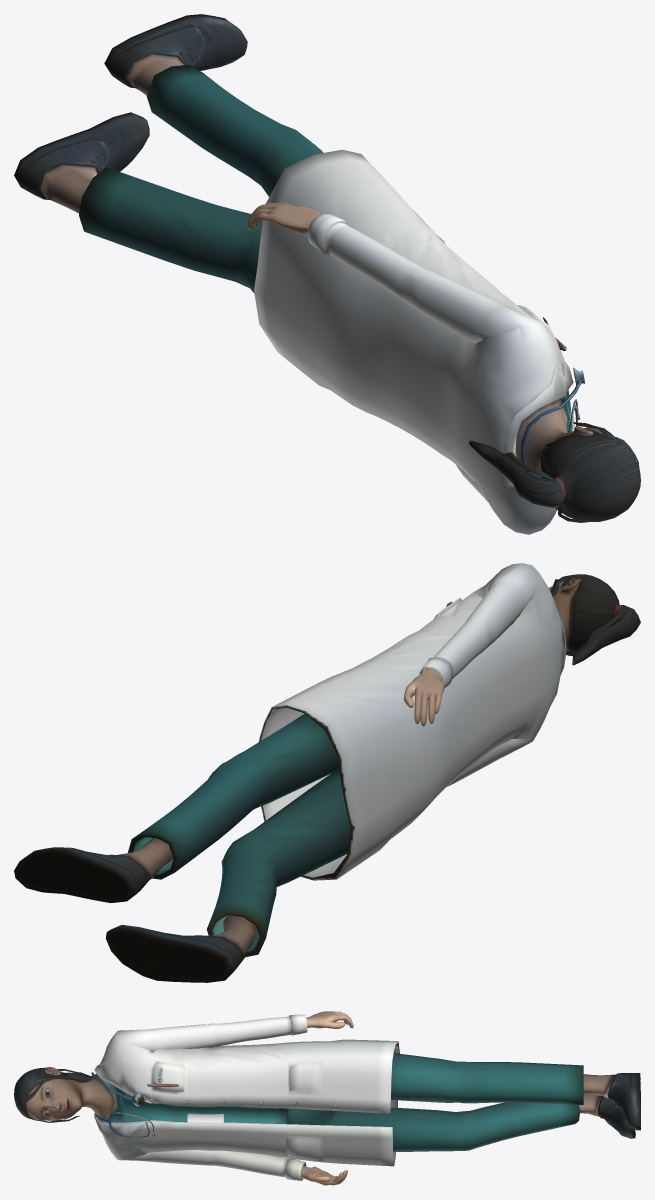
The model's file is walk.obj.
3 views of the same model, one above another, from view 1: azimuth 30°, elevation 25°; view 2: azimuth 150°, elevation 25°; view 3: azimuth 270°, elevation 25° (orthographic). The views are drawn at different scales.
Size of the model in its own units: 0.4589 by 0.3987 by 1.71.
Materials: 1 (1 with a texture image).
